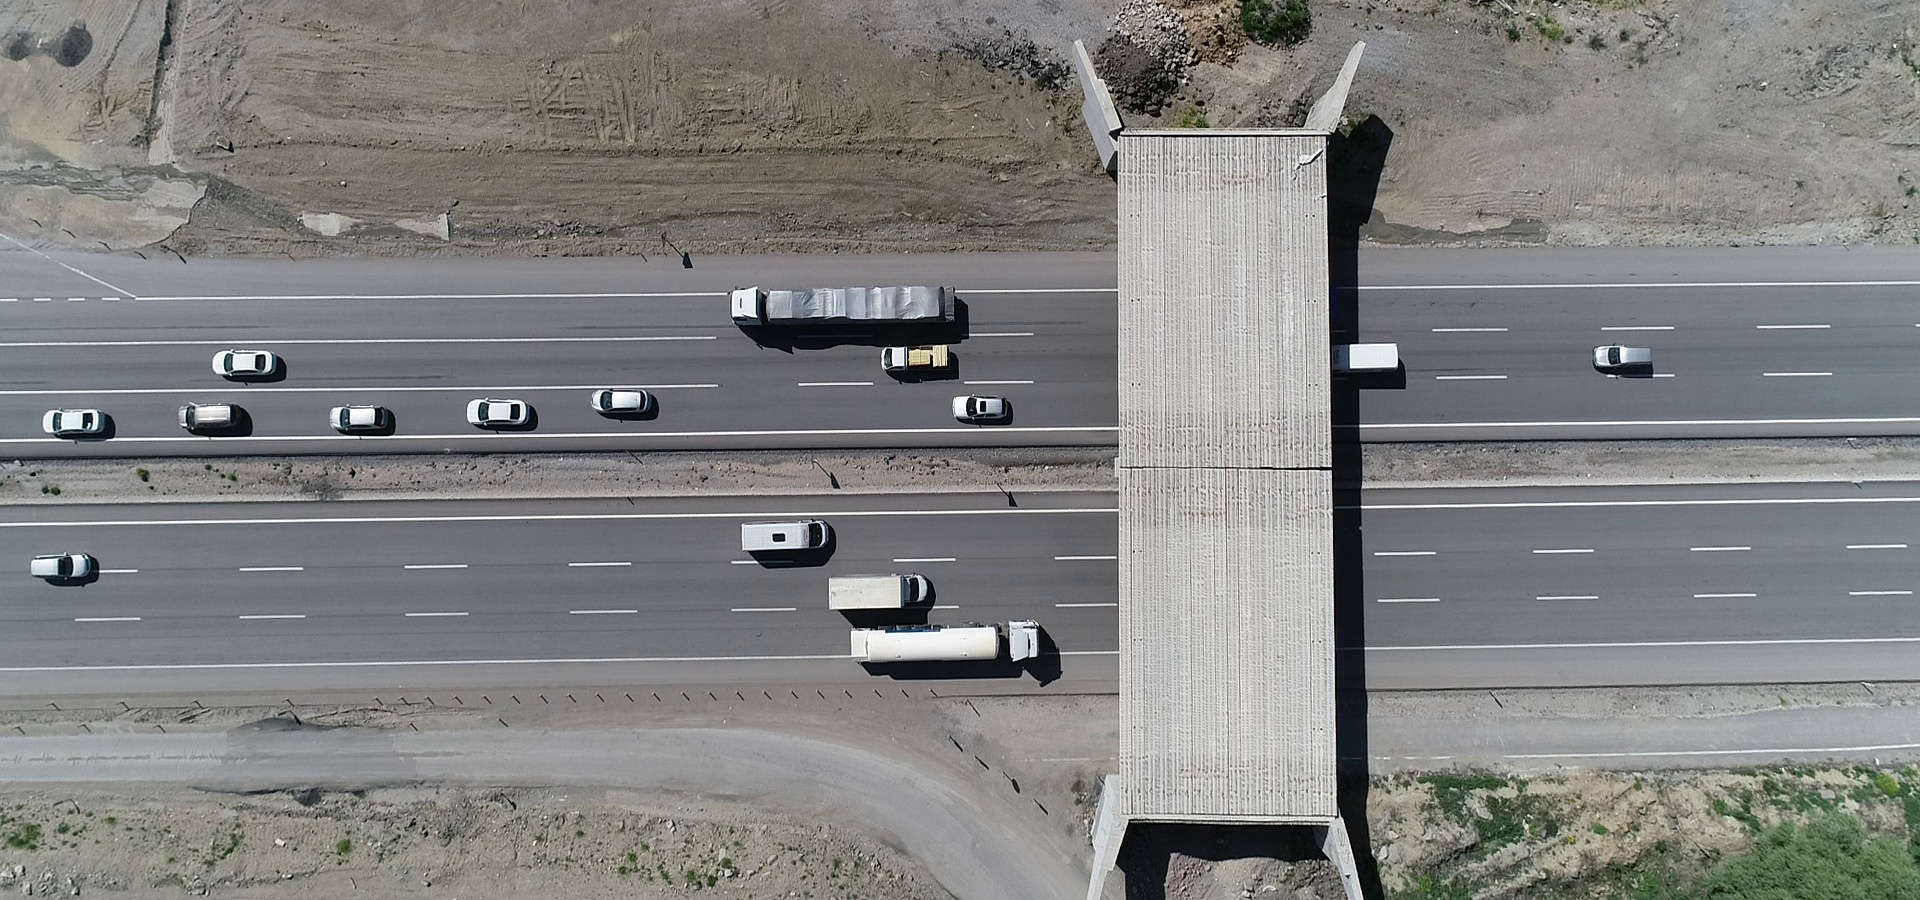araba: (44, 396, 122, 442), (28, 545, 105, 590), (178, 396, 260, 435), (467, 387, 541, 429), (211, 344, 294, 378), (940, 387, 1019, 419), (591, 381, 664, 415), (331, 399, 398, 433), (1588, 340, 1657, 373)
kamyon: (849, 615, 1059, 672), (726, 280, 962, 329), (820, 569, 937, 612), (1331, 331, 1419, 383), (737, 508, 835, 551)
kamyonet: (876, 340, 962, 380)
